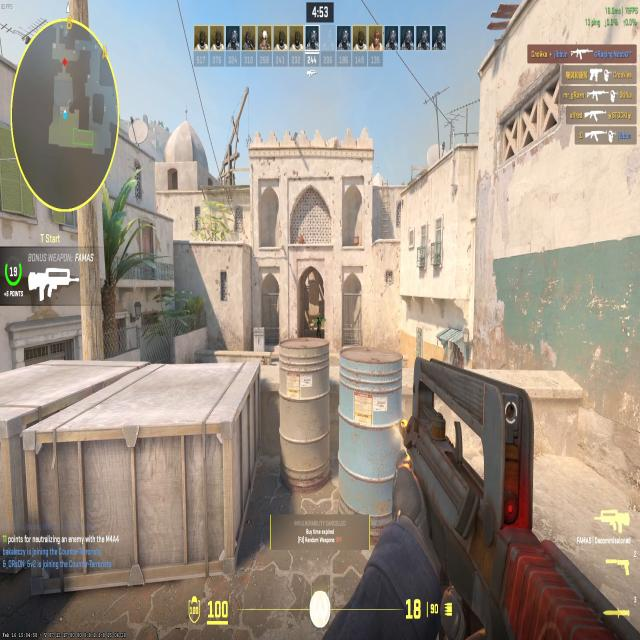player: (315, 314, 323, 340)
